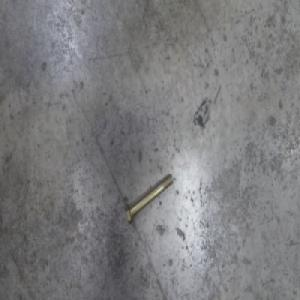Bolt: (124, 170, 174, 228)
